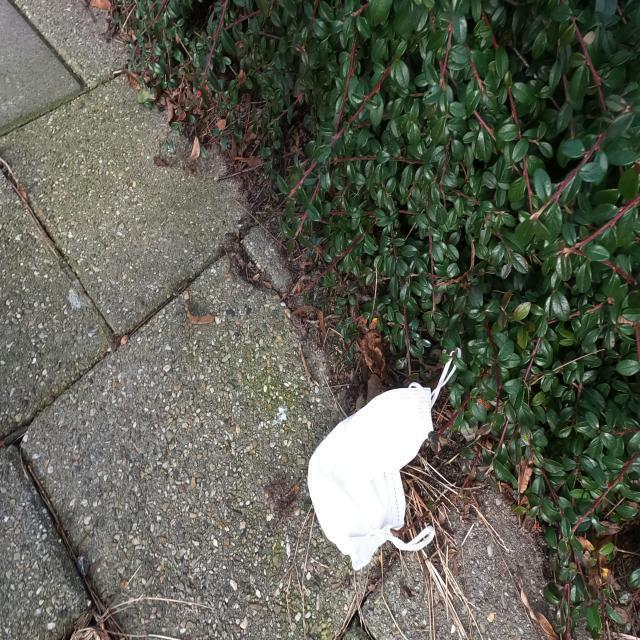Mask: (298, 344, 466, 569)
